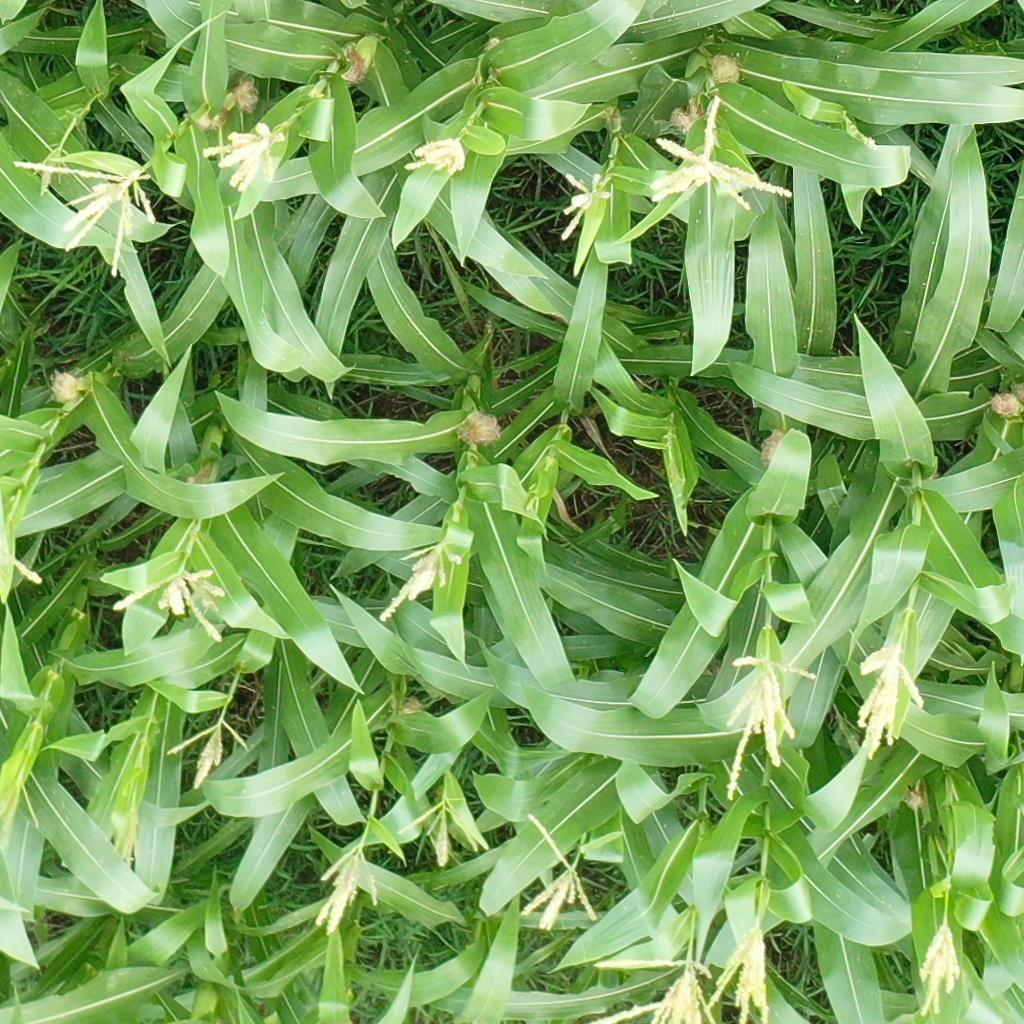Tassel: (10, 146, 157, 280), (645, 93, 792, 211), (724, 656, 817, 804), (517, 814, 600, 933), (111, 561, 223, 642), (588, 959, 722, 1024), (857, 646, 924, 762), (398, 792, 492, 867), (708, 921, 773, 1024), (378, 542, 461, 621), (166, 717, 250, 793), (202, 119, 288, 193), (315, 844, 379, 936), (917, 924, 962, 1016), (1, 488, 42, 583), (561, 170, 613, 242), (1, 770, 40, 854), (401, 135, 469, 176), (112, 796, 144, 862), (33, 145, 67, 199), (666, 459, 688, 526), (858, 132, 880, 154), (525, 493, 540, 513)
